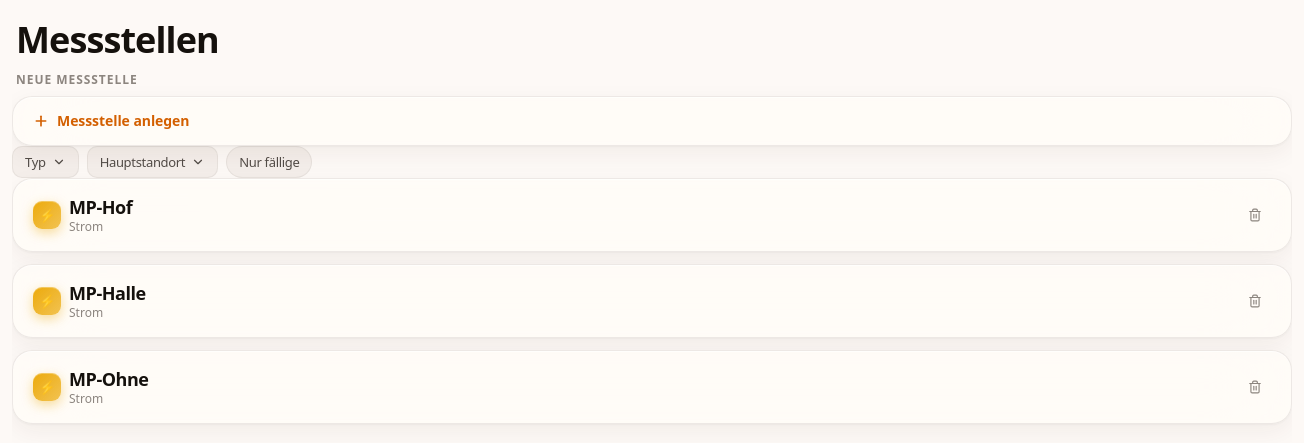
Scenario: MeasuringPointsAdminPage Wizard › filtert die Liste nach Hauptstandort und setzt alle Filter zurück
Expected: the text "MP-Hof" is shown, [69,195,132,219]
Click the button "Hauptstandort" at coordinates (152, 162), box [87,146,218,178]
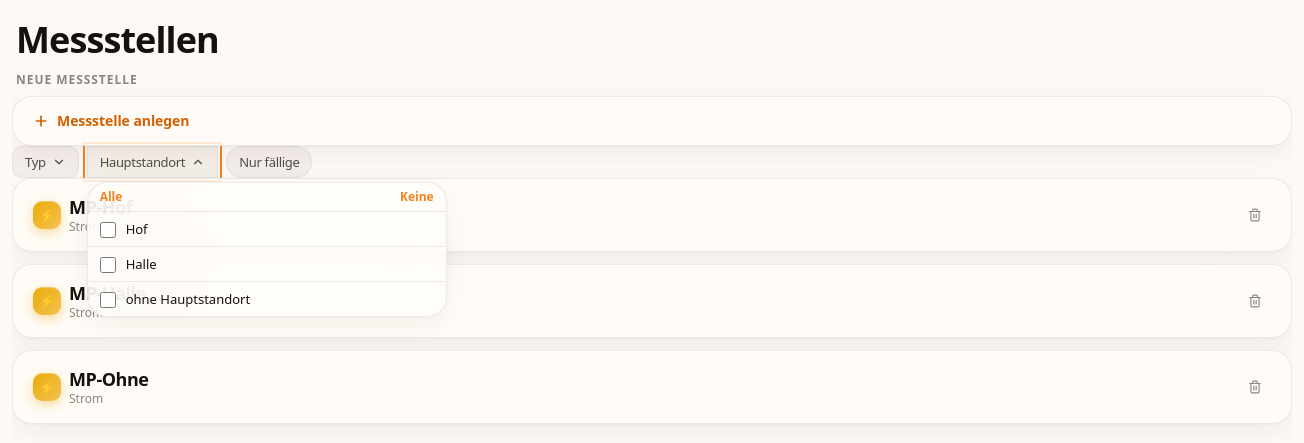
Click the checkbox labelled "Hof" at coordinates (108, 230), box [100,222,116,238]
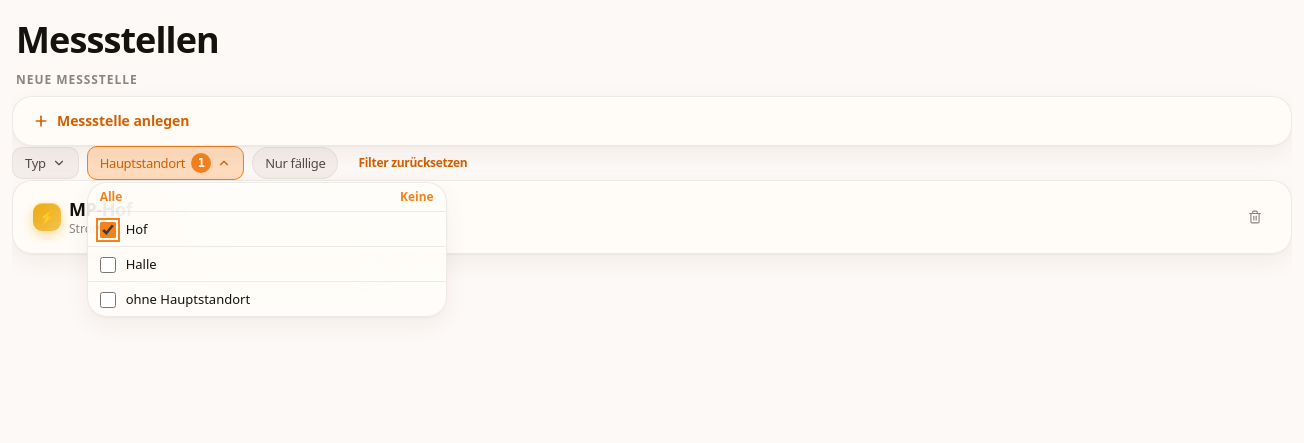
Expected: the text "MP-Hof" is shown, [69,197,132,221]
Result: the link "MP-Halle" is gone
Result: the link "MP-Ohne" is gone
# „Filter zurücksetzen" bringt alle Cards zurück.
Click the button "Filter zurücksetzen" at coordinates (413, 163), box [346,147,479,179]
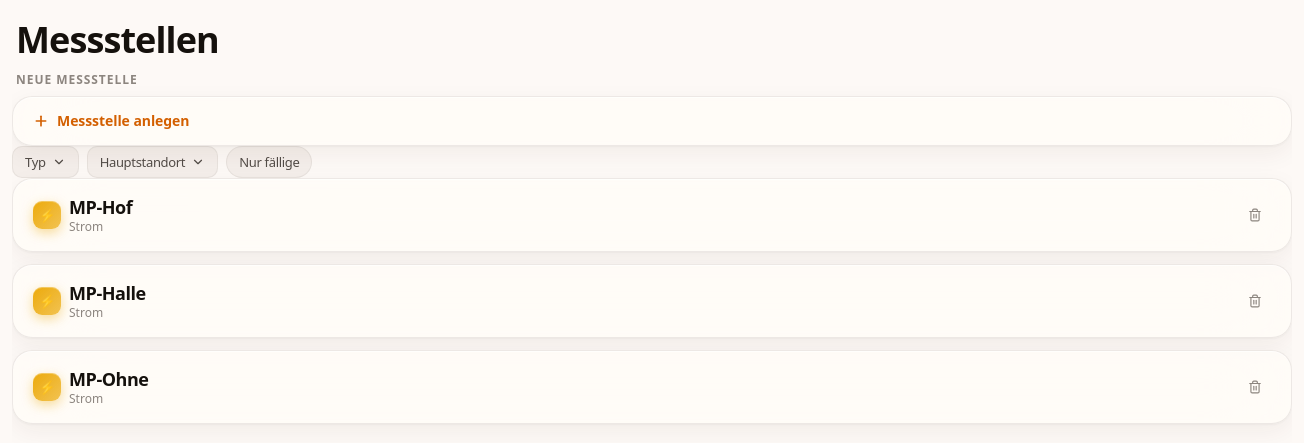
Expected: the text "MP-Hof" is shown, [69,195,132,219]
Result: the text "MP-Halle" is shown at [69,281,146,305]
Result: the text "MP-Ohne" is shown at [69,367,148,391]
